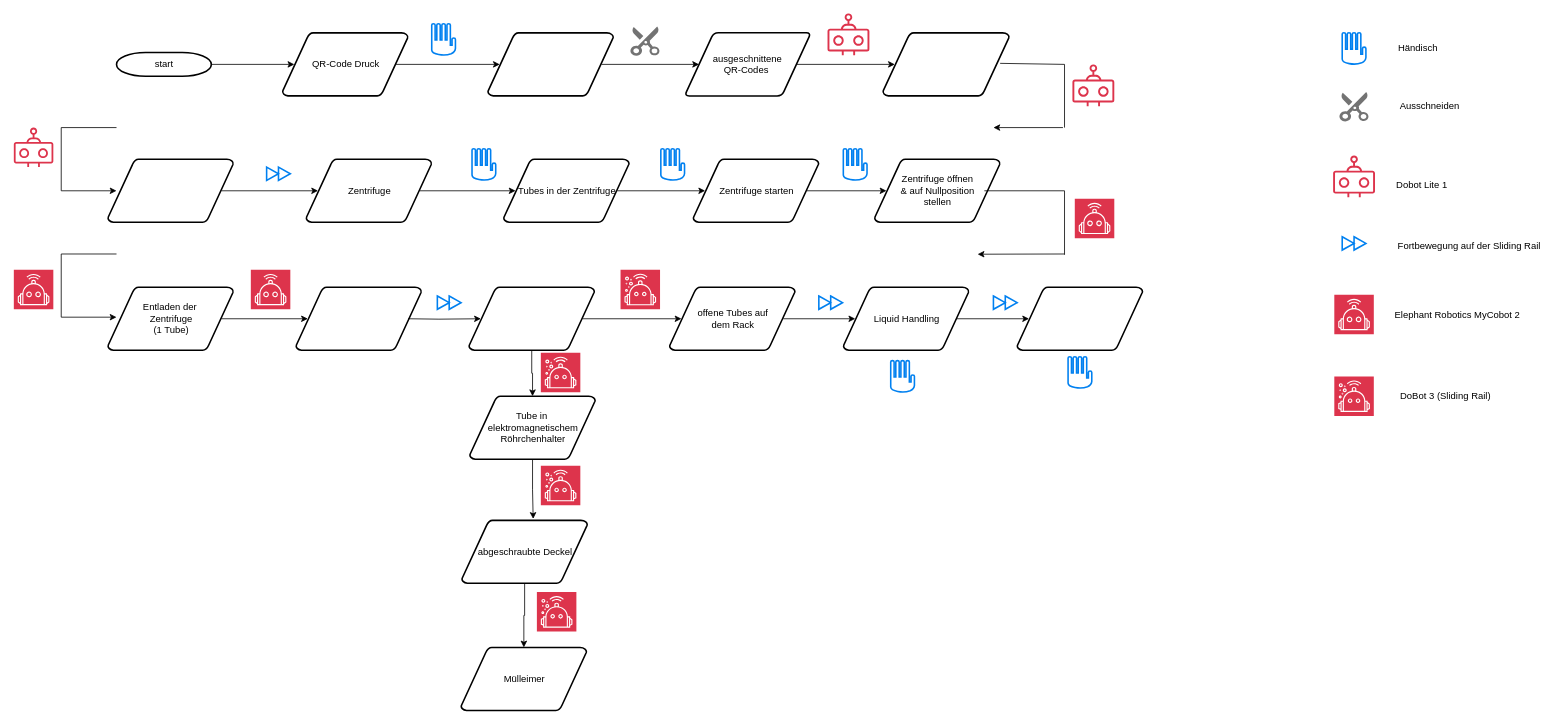
Image size: 1561x725. Some labels were removed from this diagram. The shapes that lost their labels are listed below. From the top down, each one's centre as x and y in pixels, then its label:
At (550,64): "Lasercutter".
At (946,64): "Prit Stift".
At (170,190): "Tubes im Rack auf der Sliding Rail".
At (358,318): "Beladenes Rack".
At (531,318): "Deckelöffnung".
At (1079,318): "Saugschwein".
